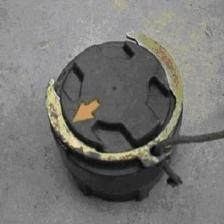M14: (48, 31, 178, 202)
